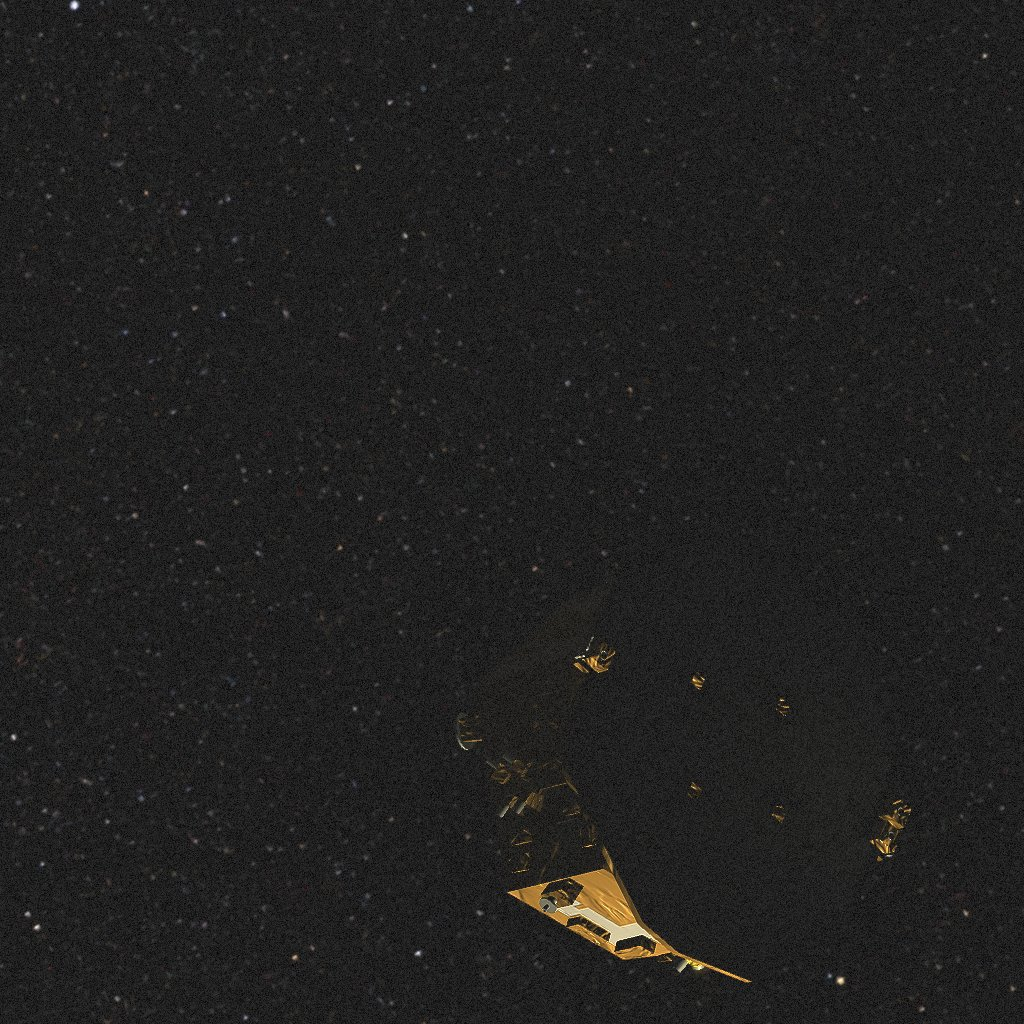lisa_pathfinder: (447, 538, 915, 973)
